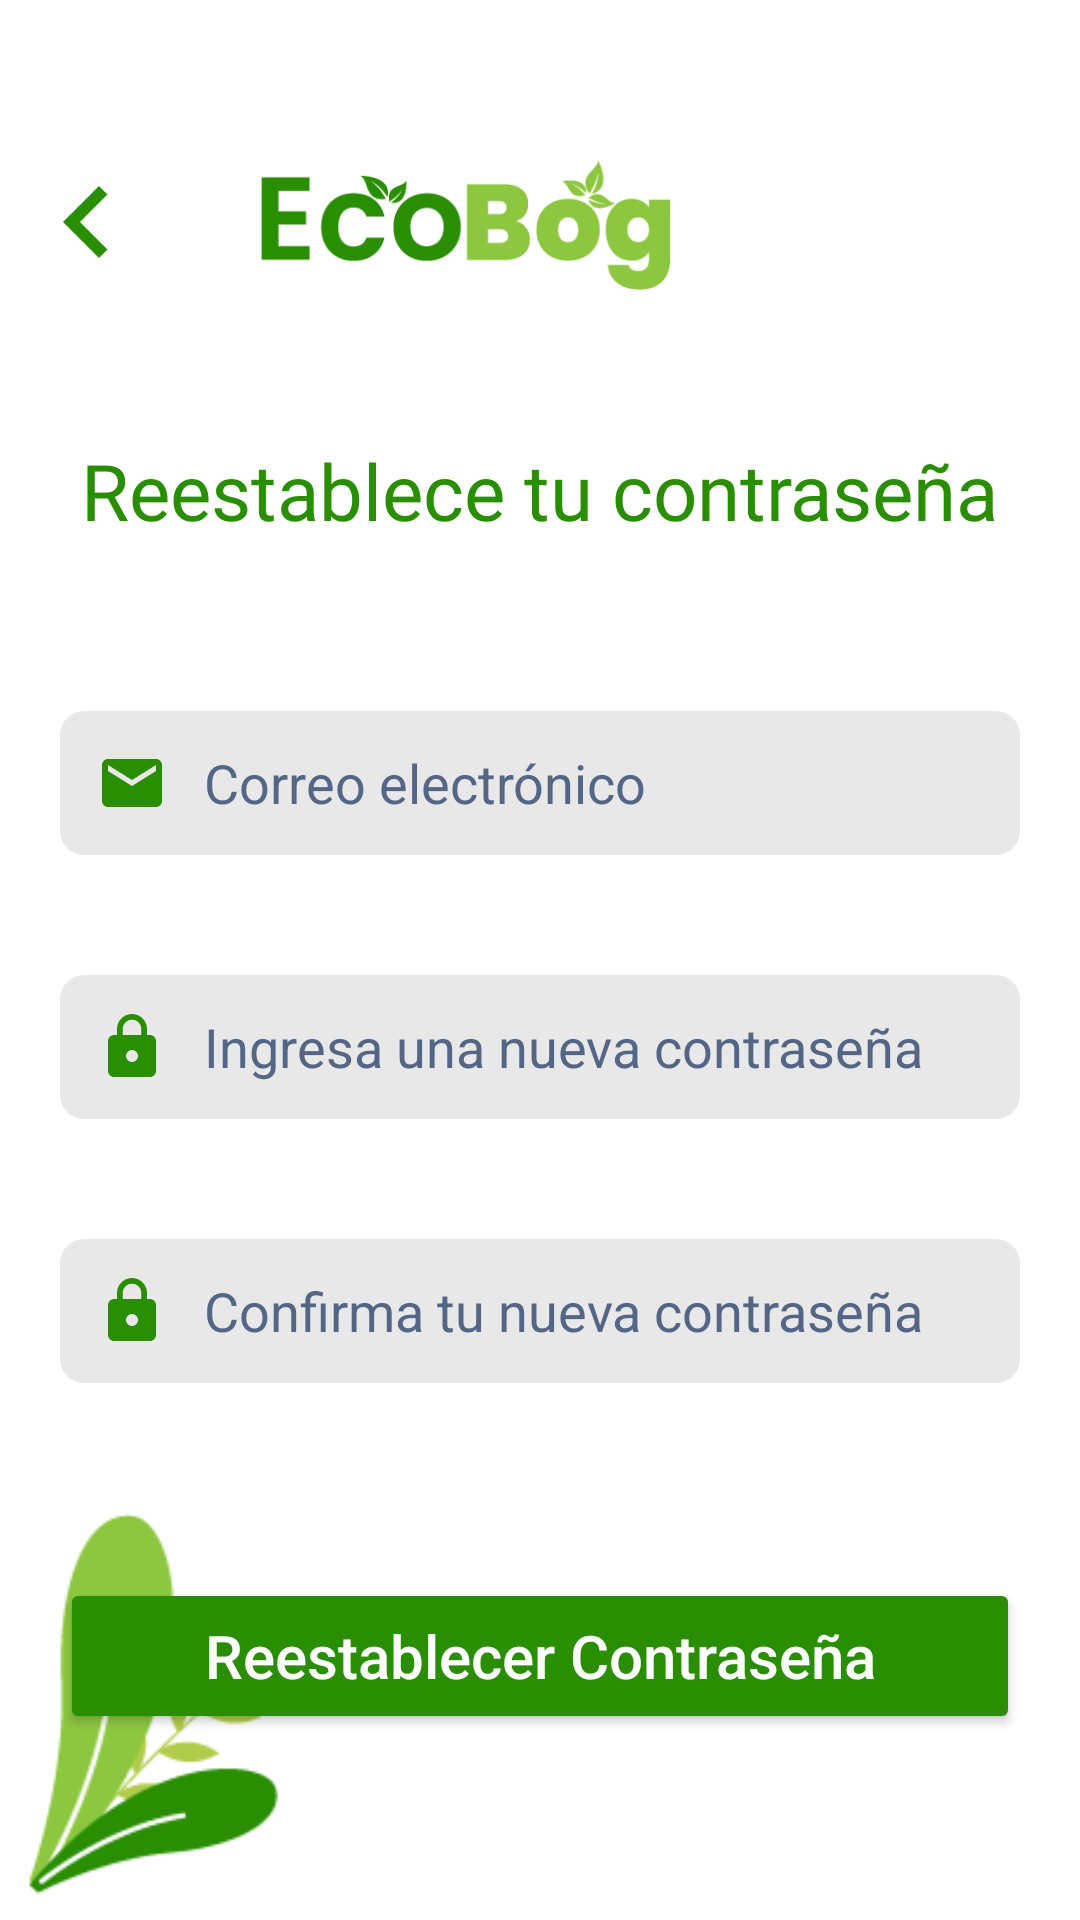

Screen size 1080w x 1920h. Icon name, then its box in pixels as (x1, y1, x2, y2):
Volver a la pantalla anterior: (63, 186, 108, 258)
